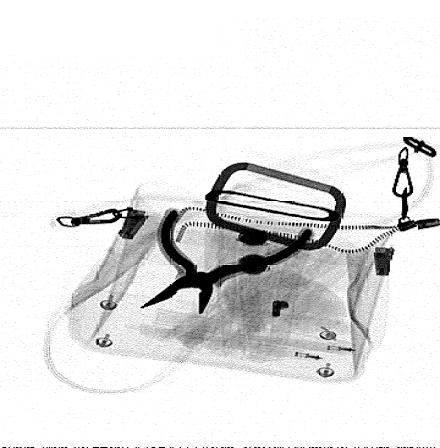Pliers: (137, 208, 318, 317)
